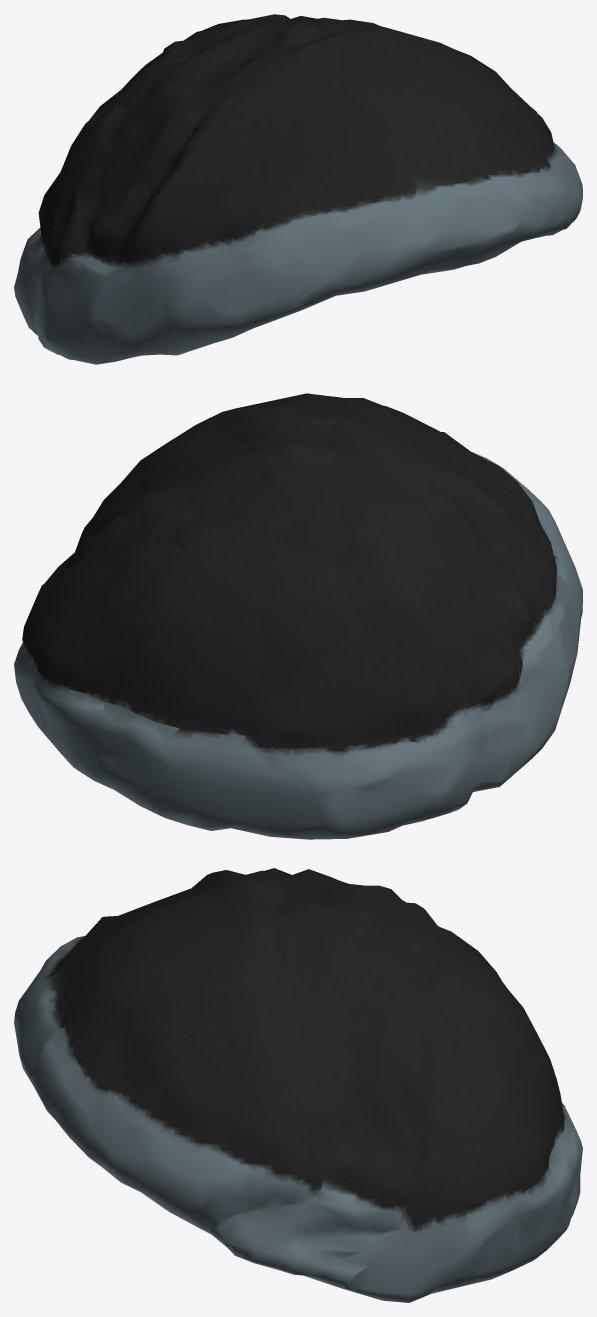
Rendered from knit las vegas.glb.
3 views of the same model, one above another, from view 1: azimuth 30°, elevation 25°; view 2: azimuth 150°, elevation 25°; view 3: azimuth 270°, elevation 25° (orthographic). The views are drawn at different scales.
Visible parts, largest first — view 1: hat_knit_las_vegas.001; view 2: hat_knit_las_vegas.001; view 3: hat_knit_las_vegas.001.
Boxes of the visible parts, box(x1,y1,x2,y2) form: hat_knit_las_vegas.001: box(14, 14, 582, 364); hat_knit_las_vegas.001: box(14, 393, 582, 839); hat_knit_las_vegas.001: box(14, 868, 582, 1302).
Bounding box in the file's own units: 0.3699 × 0.2294 × 0.355.
Materials: 1 (1 with a texture image).
